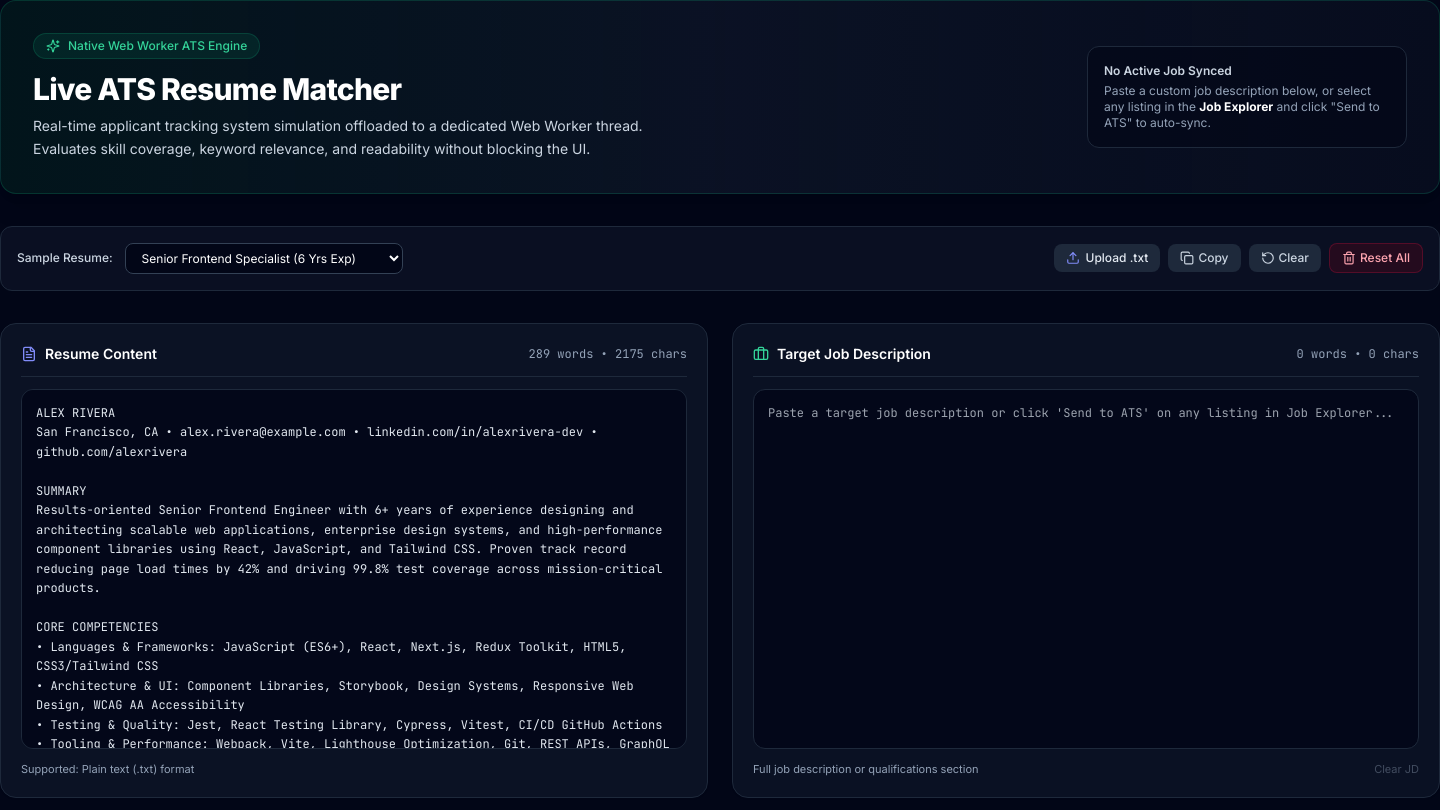
Scenario: Module 2: Complete ATS Matcher UI Tests › switches sample resumes using preset selector and calculates match
# Put a target JD
Replace the text in the text box labelled "Target Job Description" with "Looking for a Senior Frontend Engineer proficient in React, JavaScript, TypeScript, Next.js, and CSS." at (1086, 568), box [753, 388, 1419, 748]
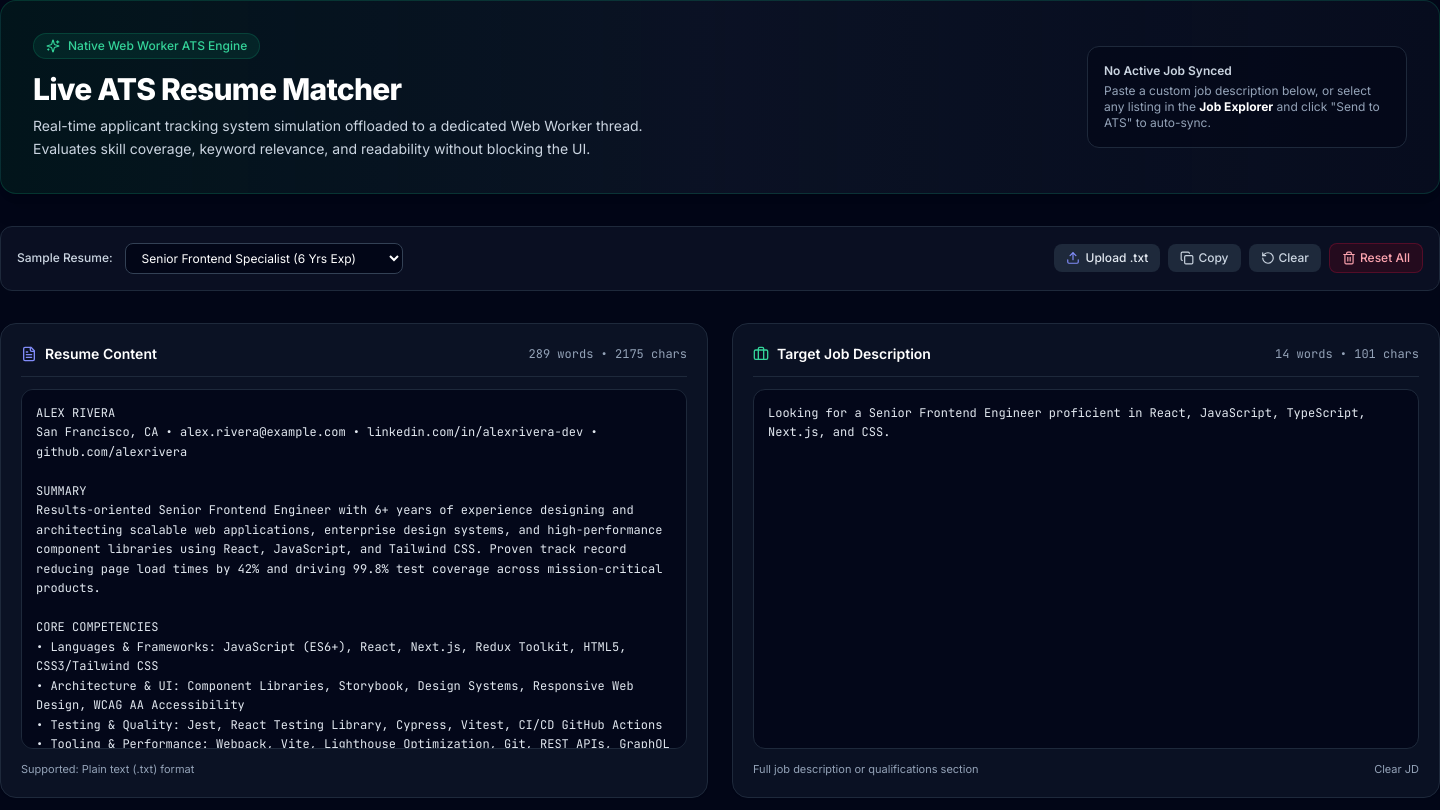
# Switch sample resume to juniorDeveloper
Select "Junior Developer (1 Yr Exp)" in the dropdown labelled "Sample Resume:" at (264, 258), box [125, 242, 403, 274]
(page scrolled)
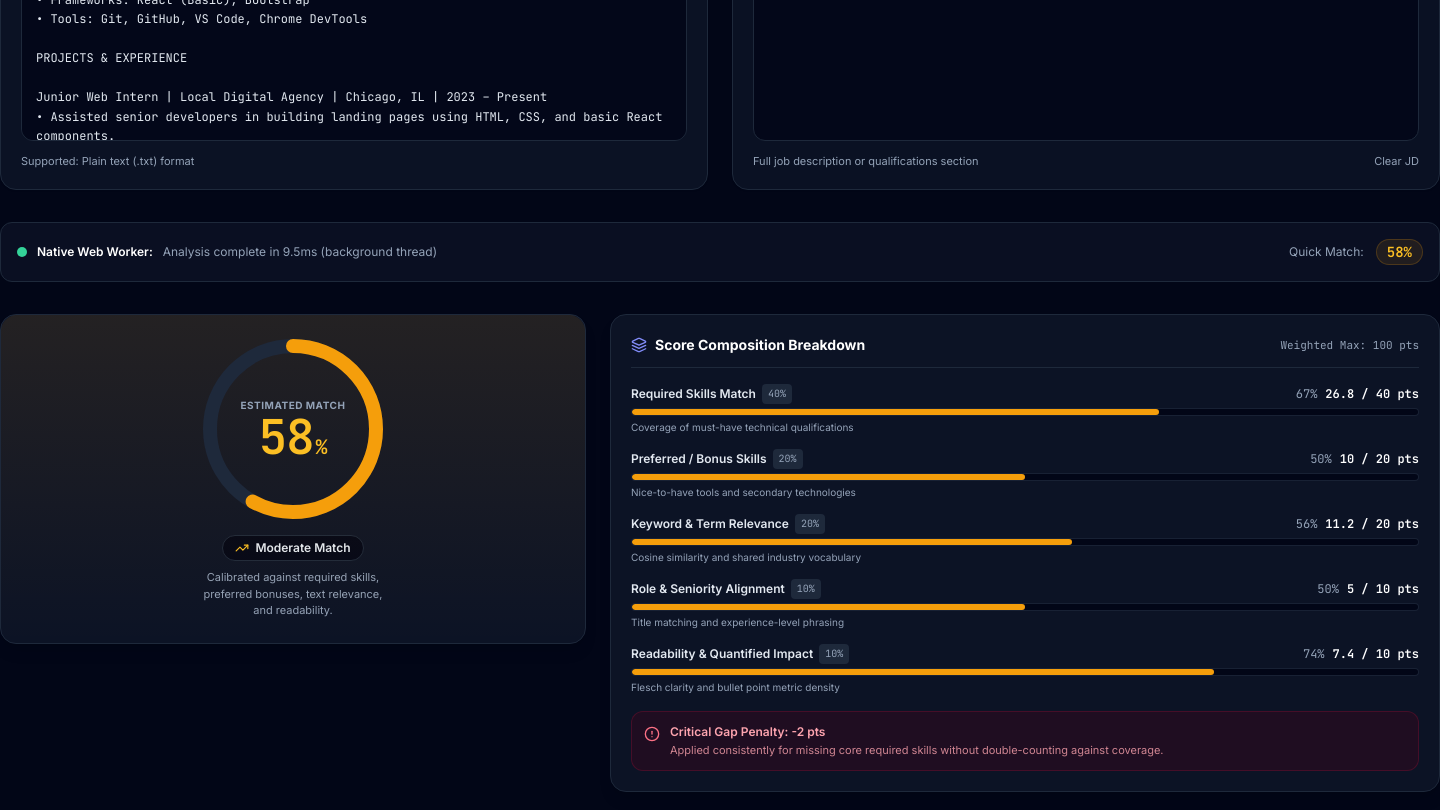
Now the text "Estimated Match" is shown, box [240, 398, 345, 412]
